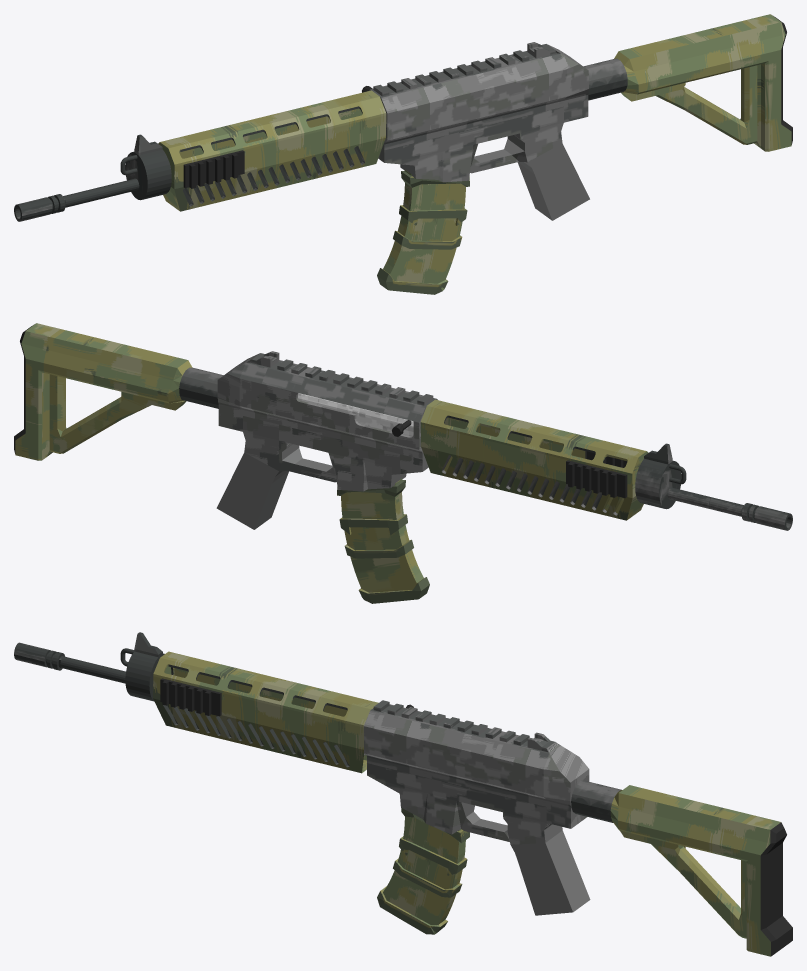
The model's file is SIG .glb.
3 views of the same model, one above another, from view 1: azimuth 30°, elevation 25°; view 2: azimuth 150°, elevation 25°; view 3: azimuth 330°, elevation 25° (orthographic).
Visible parts, largest first — view 1: cuerpo, Barril, Culata, cargador, cañon; view 2: cuerpo, Barril, Culata, cargador, cañon, corredera; view 3: cuerpo, Barril, Culata, cargador, cañon.
Boxes of the visible parts, left/top/right/bottom form: cuerpo: left=369, top=42, right=589, bottom=220; Barril: left=120, top=90, right=386, bottom=211; Culata: left=583, top=14, right=792, bottom=151; cargador: left=377, top=169, right=469, bottom=294; cañon: left=14, top=178, right=139, bottom=221; cuerpo: left=216, top=351, right=437, bottom=529; Barril: left=420, top=399, right=686, bottom=520; Culata: left=14, top=323, right=223, bottom=460; cargador: left=337, top=478, right=429, bottom=603; cañon: left=667, top=487, right=792, bottom=530; corredera: left=298, top=393, right=413, bottom=436; cuerpo: left=364, top=700, right=590, bottom=915; Barril: left=120, top=632, right=378, bottom=773; Culata: left=571, top=780, right=792, bottom=956; cargador: left=377, top=807, right=469, bottom=934; cañon: left=14, top=642, right=125, bottom=683.
Bounding box in the file's own units: 5.05 × 1.43 × 0.4201.
7 materials, 5 textured.
